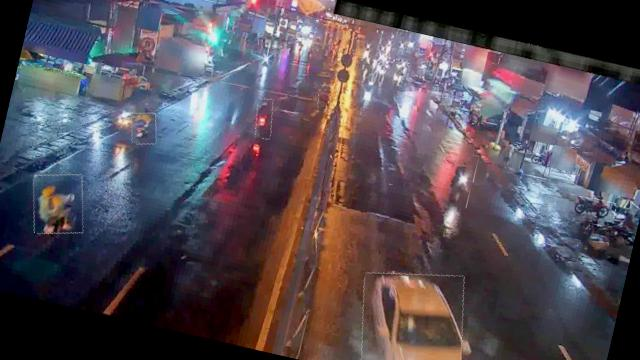Bike: (24, 166, 92, 240), (443, 150, 478, 209), (564, 193, 616, 228), (126, 110, 160, 148), (251, 98, 278, 140), (316, 84, 334, 110)
Car: (347, 259, 479, 360)
